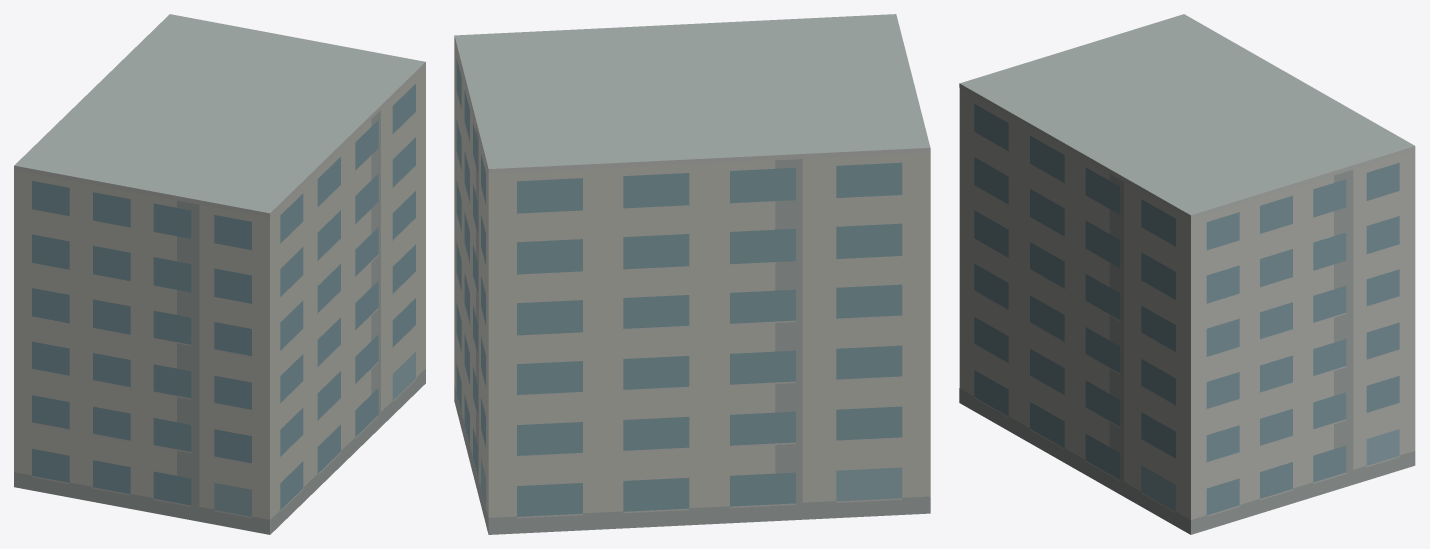
Rendered from survey-upis-32490823.glb.
3 views of the same model, side by side, from view 1: azimuth 30°, elevation 25°; view 2: azimuth 150°, elevation 25°; view 3: azimuth 270°, elevation 25° (orthographic). The views are drawn at different scales.
Parts seen in each view (by area): view 1: survey-upis-32490823.tmp; view 2: survey-upis-32490823.tmp; view 3: survey-upis-32490823.tmp.
Boxes of the visible parts, bbox=[...] form: survey-upis-32490823.tmp: bbox=[14, 14, 425, 534]; survey-upis-32490823.tmp: bbox=[454, 14, 930, 534]; survey-upis-32490823.tmp: bbox=[959, 14, 1415, 534].
Bounding box in the file's own units: 23.79 × 17.6 × 22.76.
